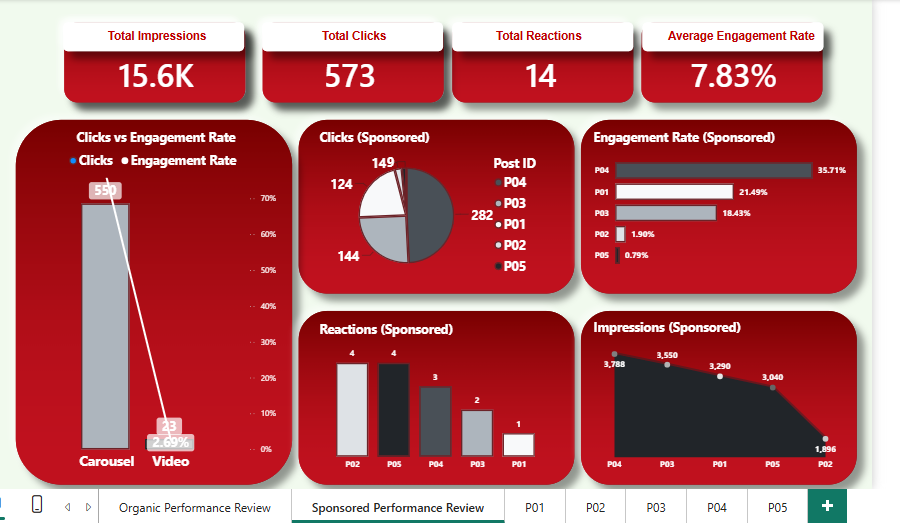

This screenshot's page, from the dashboard's own definition file:
{"tool":"powerbi","page":{"name":"Sponsored Performance Review ","canvas":[1280,720],"ordinal":1},"visuals":[{"type":"pieChart","title":" Clicks (Sponsored)","fields":{"Category":["Data.Post ID"],"Y":["Sum(Data.Clicks (sponsored))"]},"box":[464.3,189.6,352.7,232.2],"z":0},{"type":"clusteredBarChart","title":"Engagement Rate (Sponsored)","fields":{"Category":["Data.Post ID"],"Y":["Sum(Data.Engagement rate (sponsored))"]},"box":[866.9,189.6,382,217.5],"z":1000},{"type":"areaChart","title":"Impressions (Sponsored) ","fields":{"Category":["Data.Post ID"],"Y":["Sum(Data.Impressions (sponsored))"]},"box":[866.9,468.7,382,233.6],"z":2000},{"type":"columnChart","title":"Reactions (Sponsored)","fields":{"Category":["Data.Post ID"],"Y":["Sum(Data.Reactions (sponsored))"]},"box":[464.3,471.7,352.7,230.7],"z":3000},{"type":"lineStackedColumnComboChart","title":"Clicks vs Engagement Rate ","fields":{"Category":["Data.Content Type"],"Y":["Sum(Data.Clicks (sponsored))"],"Y2":["Sum(Data.Engagement rate (sponsored))"]},"box":[29.4,189.6,399.7,512.8],"z":4000},{"type":"cardVisual","fields":{"Data":["Calculations.Total Clicks (Sponsored)"]},"box":[418.8,54.4,191,110.2],"z":5000},{"type":"cardVisual","fields":{"Data":["Calculations.Total Impressions (Sponsored)"]},"box":[133.7,54.4,191,110.2],"z":6000},{"type":"cardVisual","fields":{"Data":["Calculations.Total Reactions (Sponsored)"]},"box":[699.4,54.4,191,110.2],"z":7000},{"type":"cardVisual","fields":{"Data":["Calculations.Average Engagement Rate (Sponsored)"]},"box":[983,54.4,191,110.2],"z":8000}]}

Visuals, with their boxes on the page's 1280x720 design canvas (x1, y1, x2, y2). These are canvas units, not pixel positions in the 900x523 screenshot, which may show the page scaled, cropped or inside an application window:
" Clicks (Sponsored)" pieChart: (x1=464, y1=190, x2=817, y2=422)
"Engagement Rate (Sponsored)" clusteredBarChart: (x1=867, y1=190, x2=1249, y2=407)
"Impressions (Sponsored) " areaChart: (x1=867, y1=469, x2=1249, y2=702)
"Reactions (Sponsored)" columnChart: (x1=464, y1=472, x2=817, y2=702)
"Clicks vs Engagement Rate " lineStackedColumnComboChart: (x1=29, y1=190, x2=429, y2=702)
cardVisual - Calculations.Total Clicks (Sponsored): (x1=419, y1=54, x2=610, y2=165)
cardVisual - Calculations.Total Impressions (Sponsored): (x1=134, y1=54, x2=325, y2=165)
cardVisual - Calculations.Total Reactions (Sponsored): (x1=699, y1=54, x2=890, y2=165)
cardVisual - Calculations.Average Engagement Rate (Sponsored): (x1=983, y1=54, x2=1174, y2=165)
